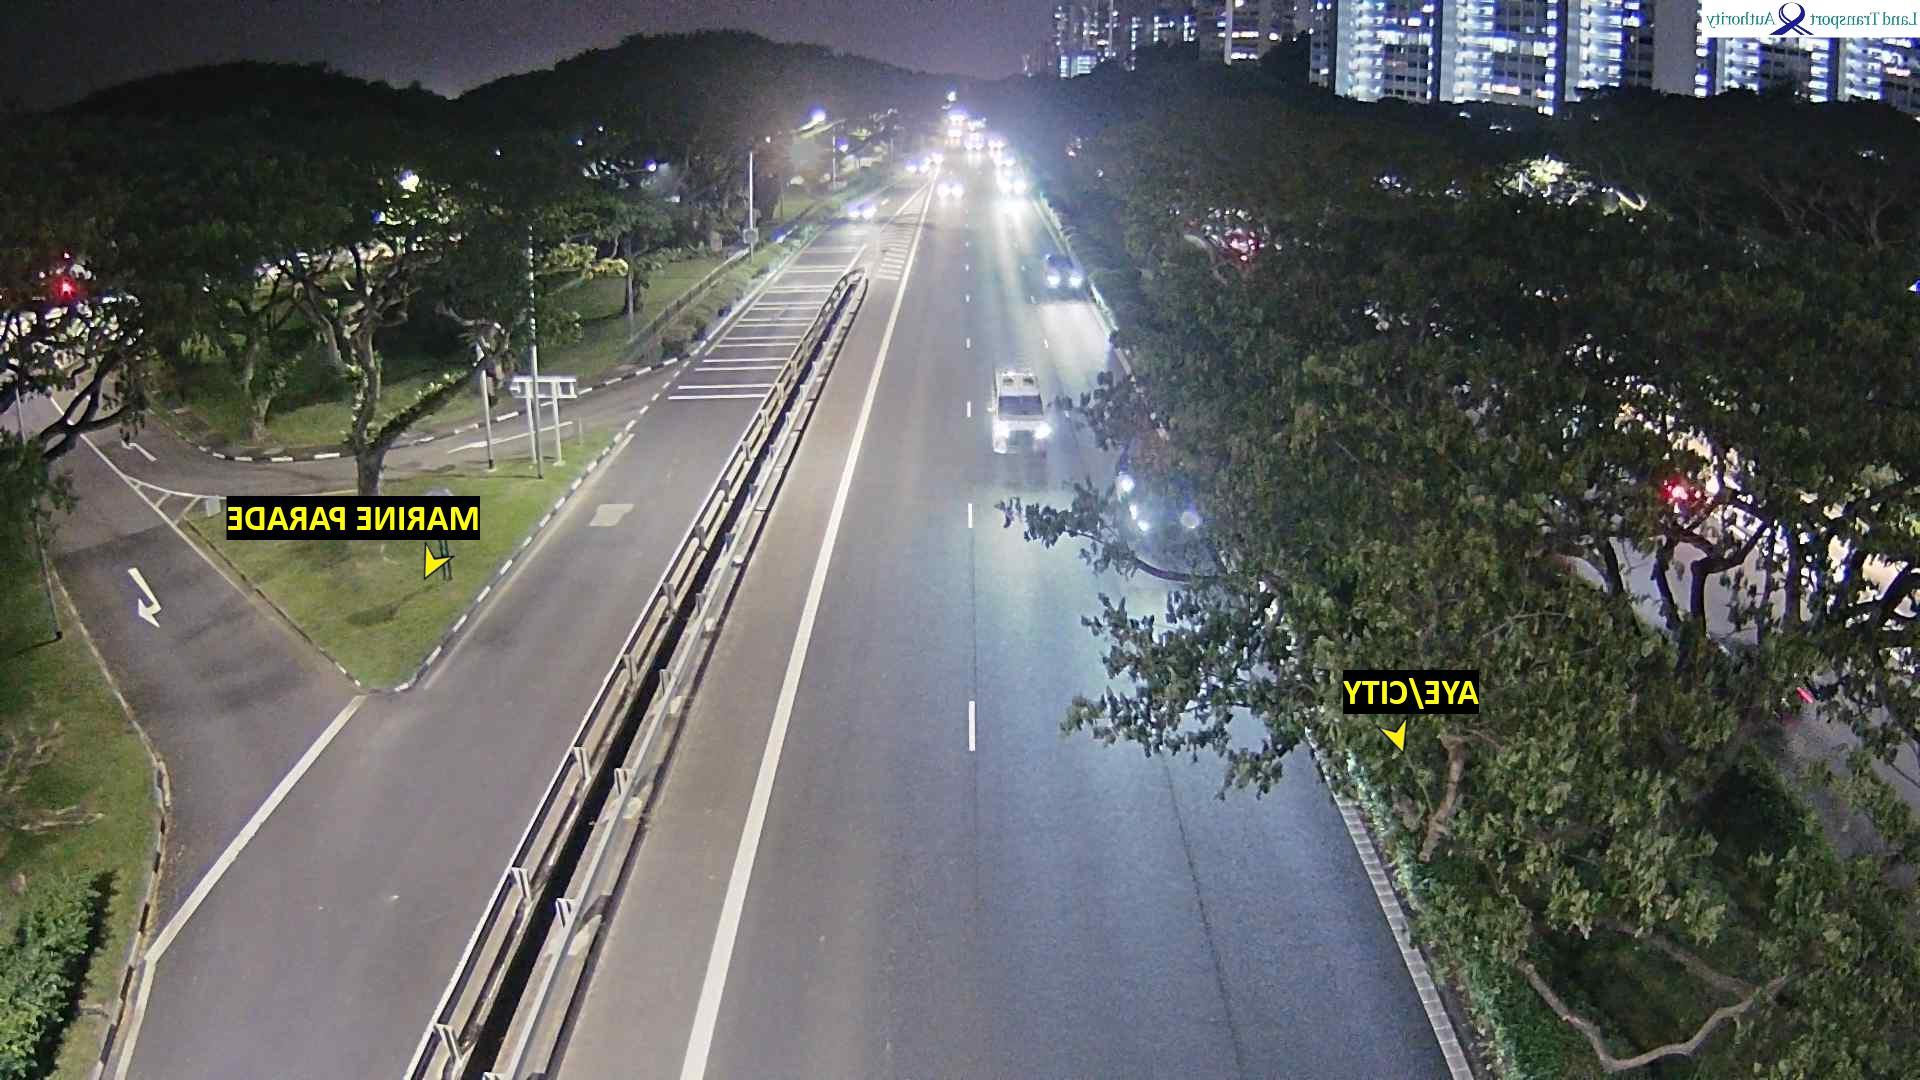incoming: (982, 389, 1062, 457), (1042, 253, 1082, 292), (996, 168, 1026, 194), (847, 199, 877, 219), (934, 180, 962, 201), (989, 147, 1015, 166), (904, 159, 927, 176)
